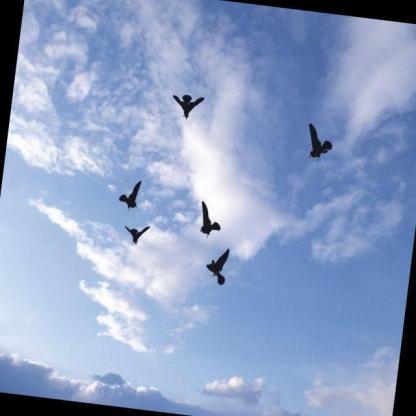bird: (202, 244, 233, 288), (304, 121, 336, 163), (168, 90, 206, 124), (196, 199, 225, 240), (116, 178, 143, 213), (121, 221, 152, 250)
